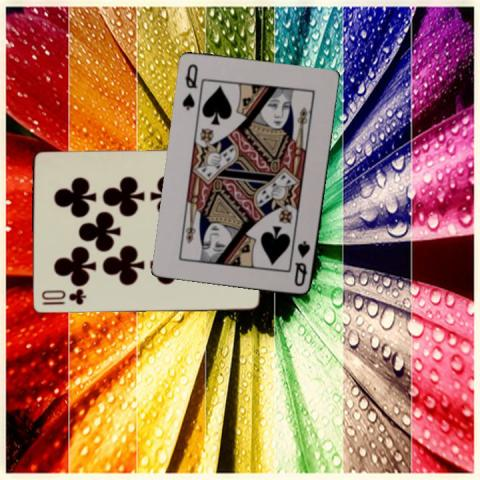10c: (38, 286, 87, 306)
Qs: (291, 238, 312, 288), (180, 61, 199, 112)
